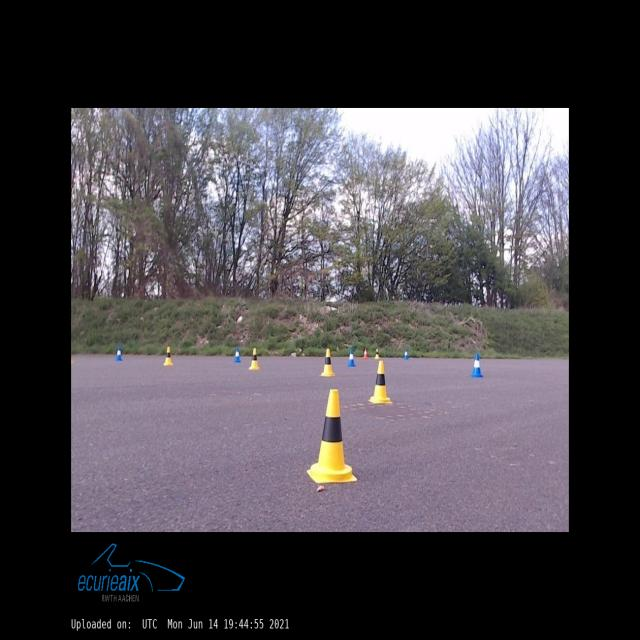blue_cone: (471, 353, 483, 377), (348, 349, 356, 366), (234, 347, 241, 362), (116, 346, 122, 361), (404, 350, 409, 360)
orange_cone: (363, 348, 368, 358)
yellow_cone: (307, 389, 357, 483), (369, 361, 393, 403), (321, 348, 335, 376), (249, 348, 259, 369), (164, 346, 173, 366), (374, 348, 380, 358)
